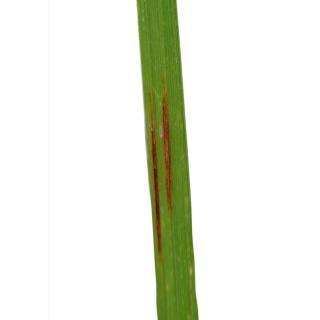Bercak-Cokelat-Sempit: (143, 90, 167, 264), (158, 74, 180, 213)
